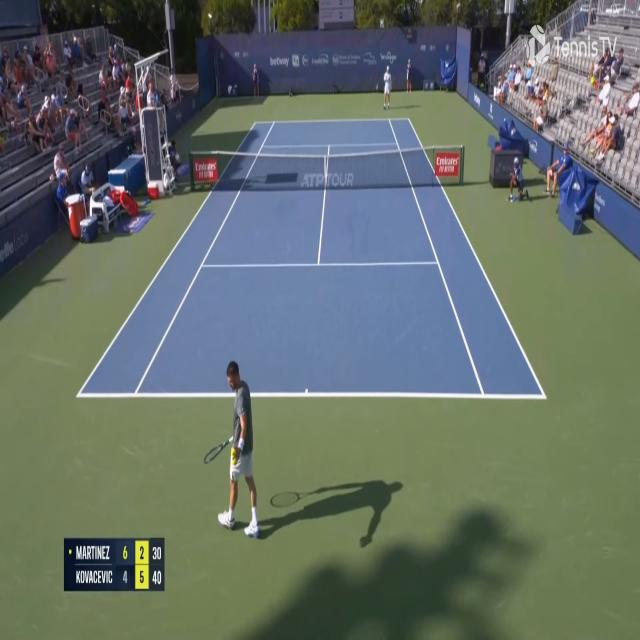tennis-player: (202, 355, 262, 539), (381, 65, 393, 110)
